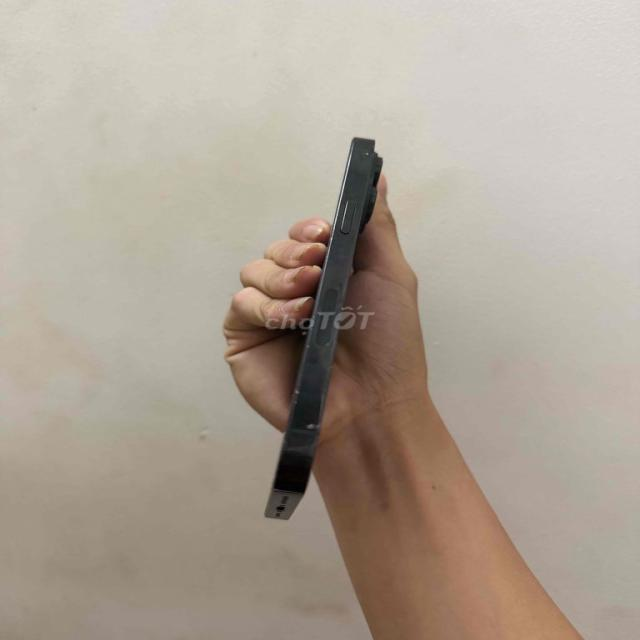gen_14: (250, 128, 385, 535)
scratch: (300, 315, 338, 354), (301, 414, 339, 440), (291, 382, 314, 412), (364, 142, 374, 166)
